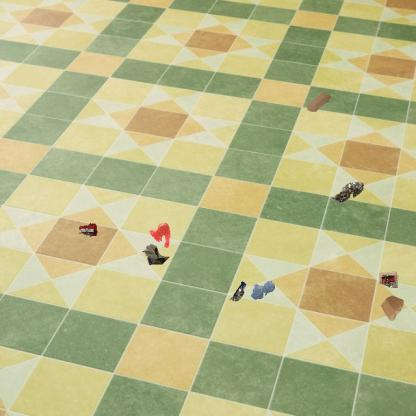dirty: (330, 179, 366, 205), (138, 242, 172, 267), (378, 293, 406, 323), (304, 90, 333, 113), (377, 269, 401, 290), (228, 280, 248, 304), (78, 221, 100, 239)
liquid: (250, 279, 276, 301), (150, 222, 171, 248)
